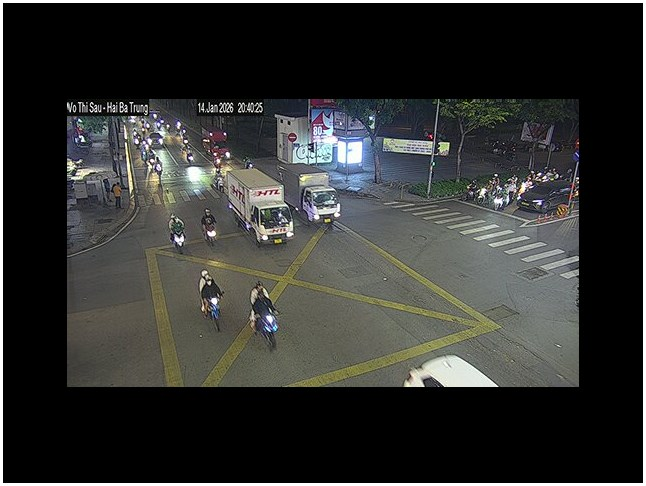car: (403, 354, 499, 387), (301, 187, 341, 225)
truck: (224, 165, 294, 246)
